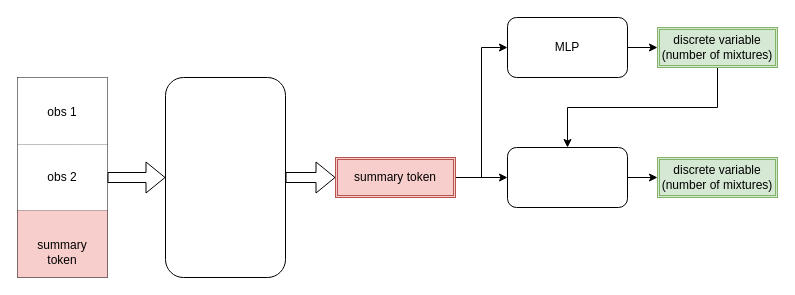
Some shapes in this 795 by 295 pixel diagram are drawn without their labels. Each missing label, with the centre of its shape:
"Continuous Normalizing Flow" goes at point (567, 177).
"transformer encoder - self attention" goes at point (225, 177).
